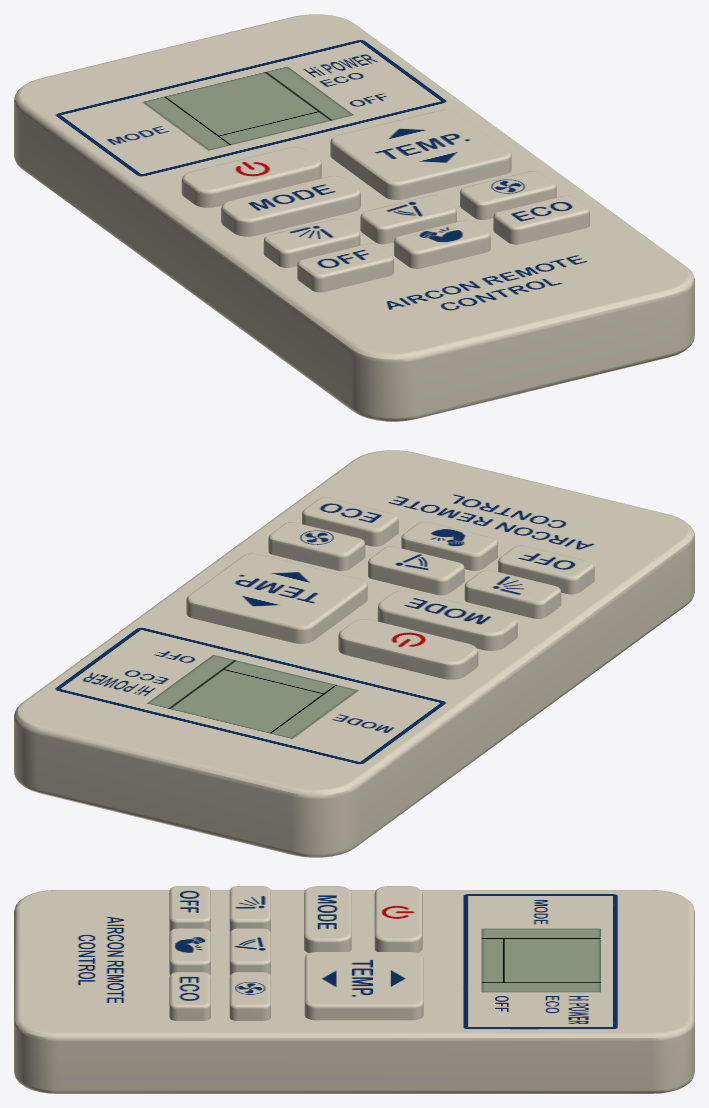
Rendered from Airconditioner_Remote.glb.
3 renders of one model, top to bottom at view 1: azimuth 30°, elevation 25°; view 2: azimuth 150°, elevation 25°; view 3: azimuth 270°, elevation 25°, orthographic. The views are drawn at different scales.
Parts seen in each view (by area): view 1: AirconRemote; view 2: AirconRemote; view 3: AirconRemote.
Part boxes in pixels (x1,y1,x2,y2): AirconRemote: (14,14,694,421); AirconRemote: (14,450,694,857); AirconRemote: (14,886,694,1093).
Bounding box in the file's own units: 10.25 × 2.45 × 19.95.
1 material, 1 textured.
